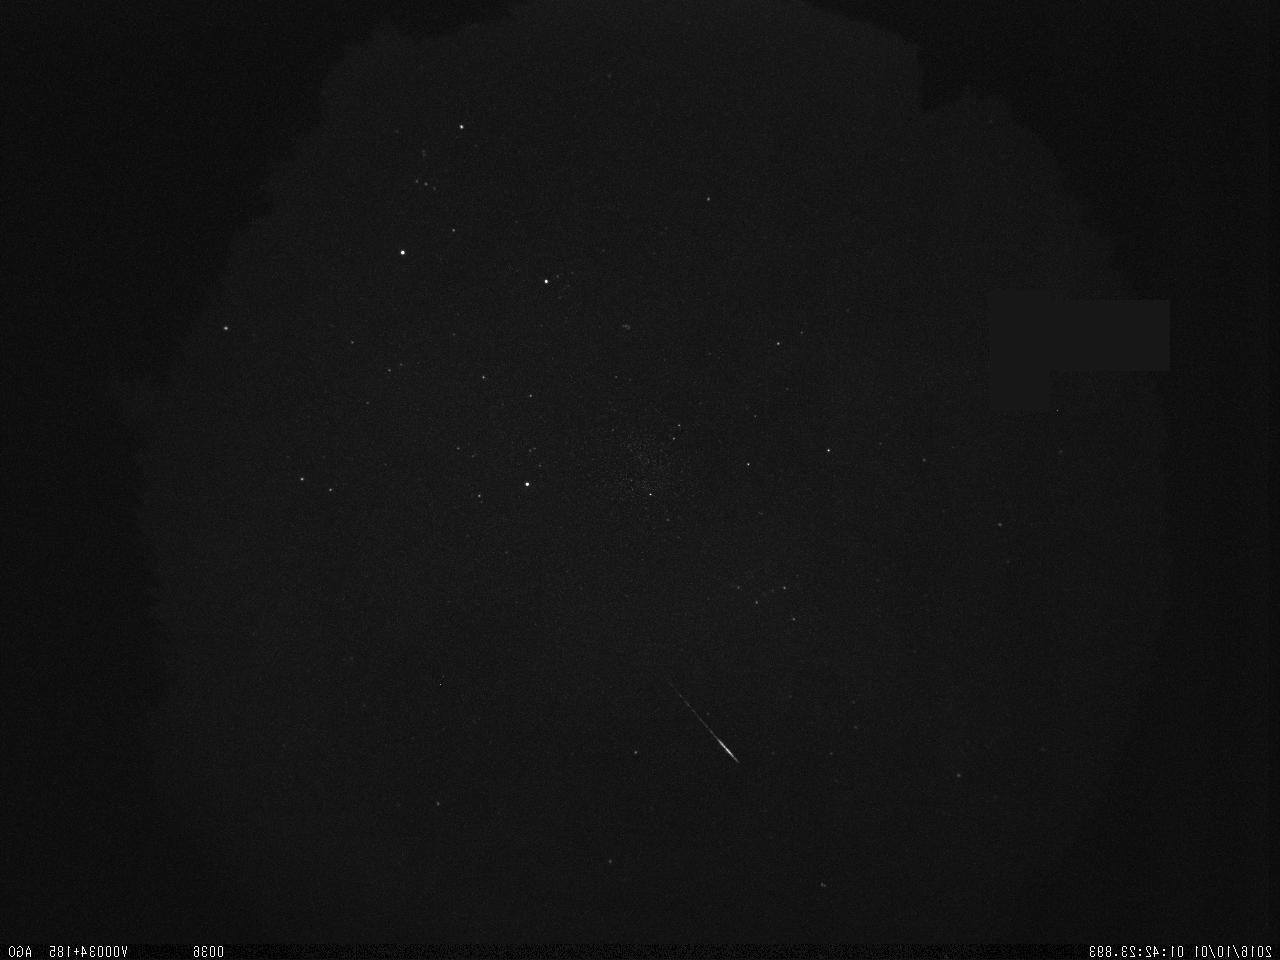meteor: (682, 708, 750, 768)
